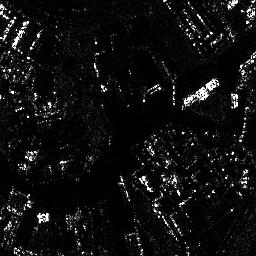ship: (182, 76, 219, 105)
